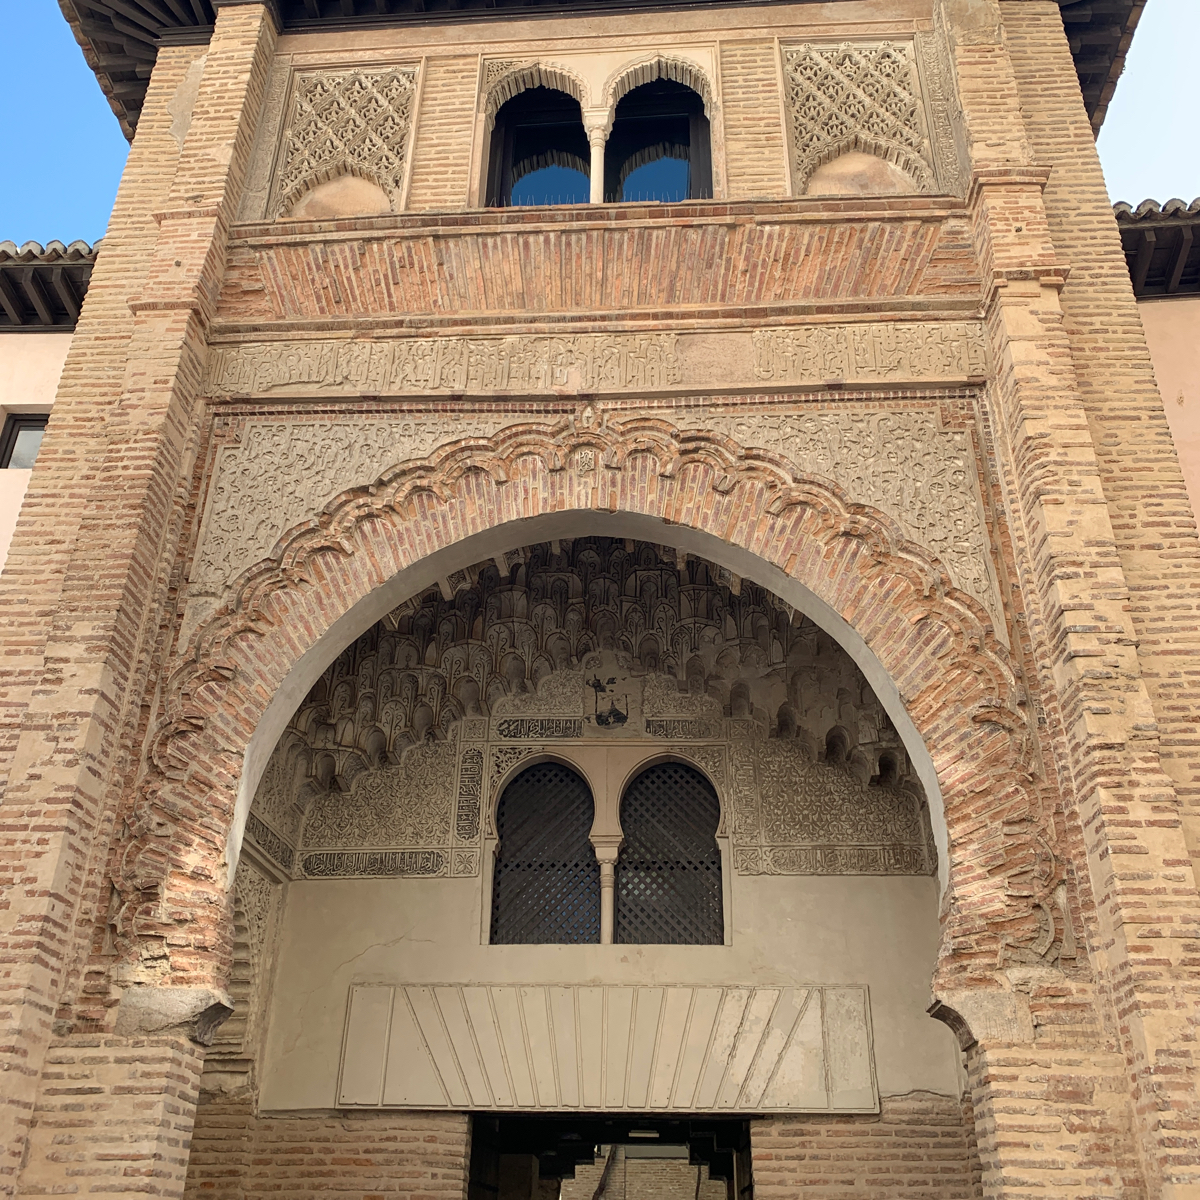arco-herradura: (165, 496, 995, 1092), (481, 738, 607, 855), (605, 743, 732, 854)
dintel-adovelado: (220, 203, 952, 326), (388, 977, 838, 1111)
